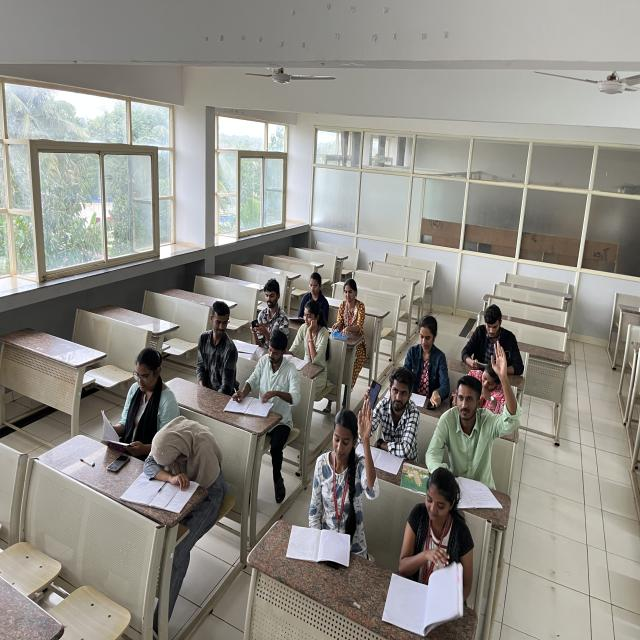Hand Rising: (434, 341, 520, 470), (312, 401, 378, 516)
Reading: (96, 343, 192, 456), (398, 471, 479, 598), (285, 268, 331, 322)
Sleeping: (150, 409, 222, 491)
Using Phone: (366, 362, 421, 441), (247, 282, 290, 344)
Writing: (230, 334, 300, 416)
